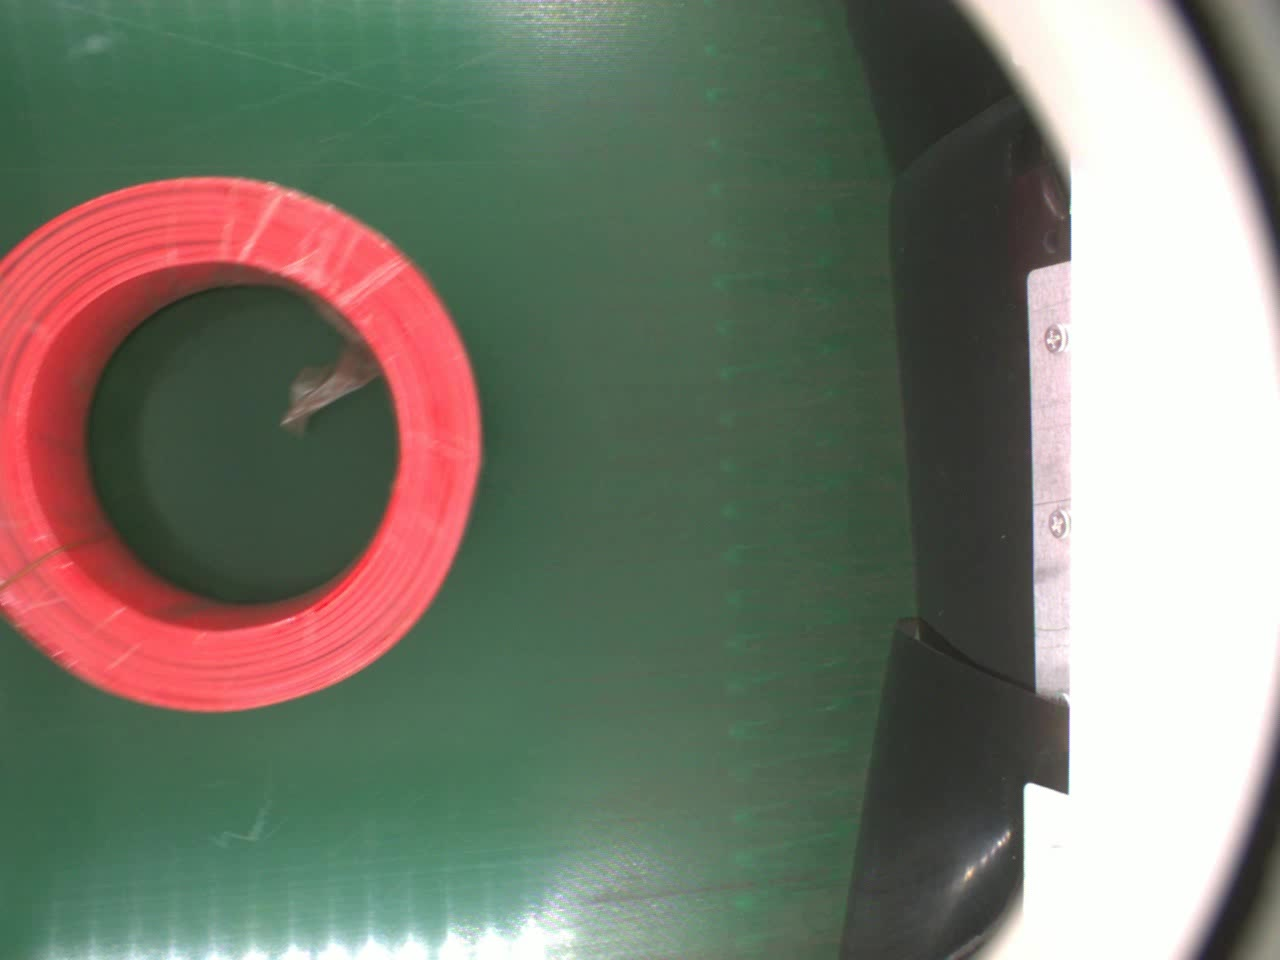red: (0, 172, 482, 712)
